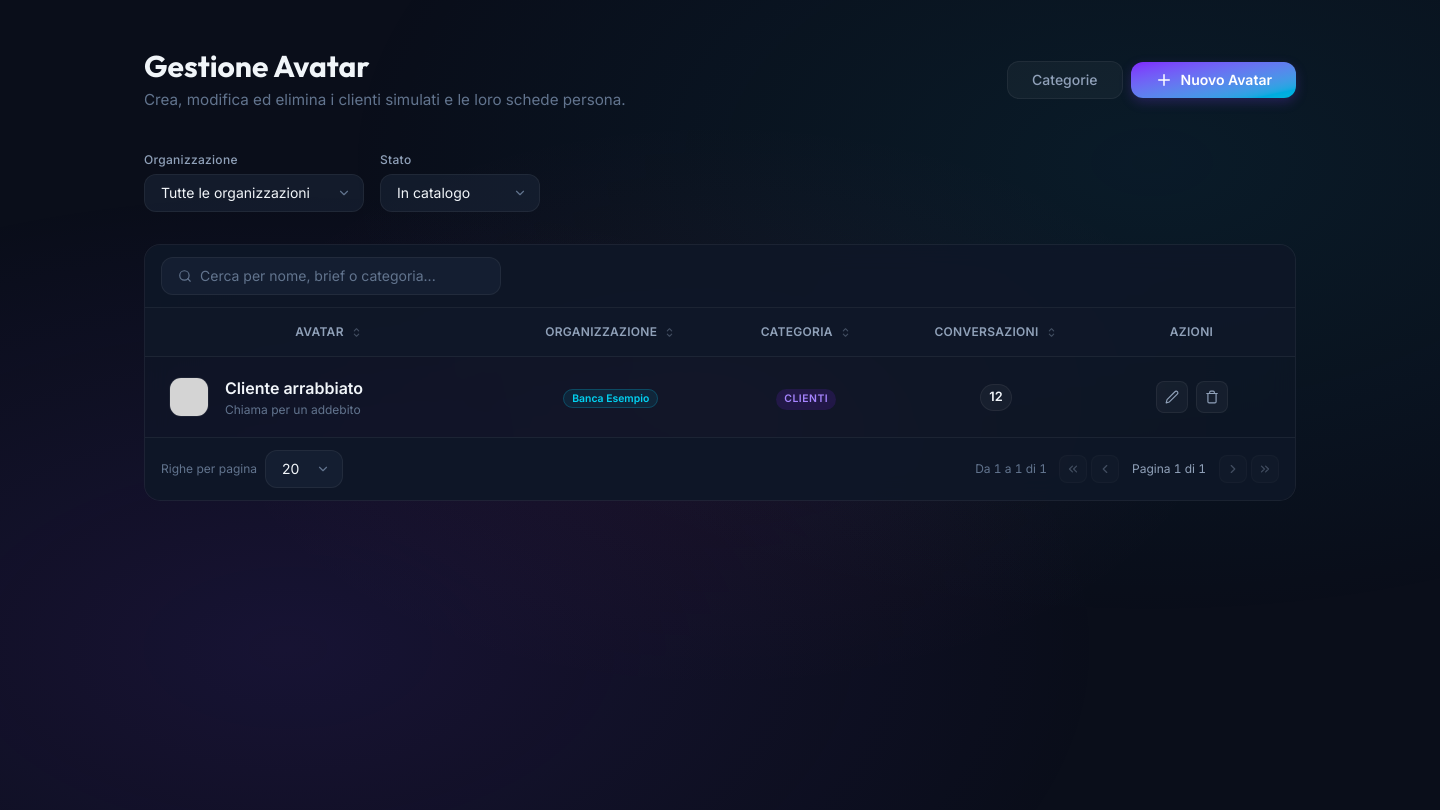
Test: catalogo › mostra gli archiviati quando si chiedono
Step 1. Click the dropdown named "Stato" → (460, 193), box [380, 174, 540, 212]
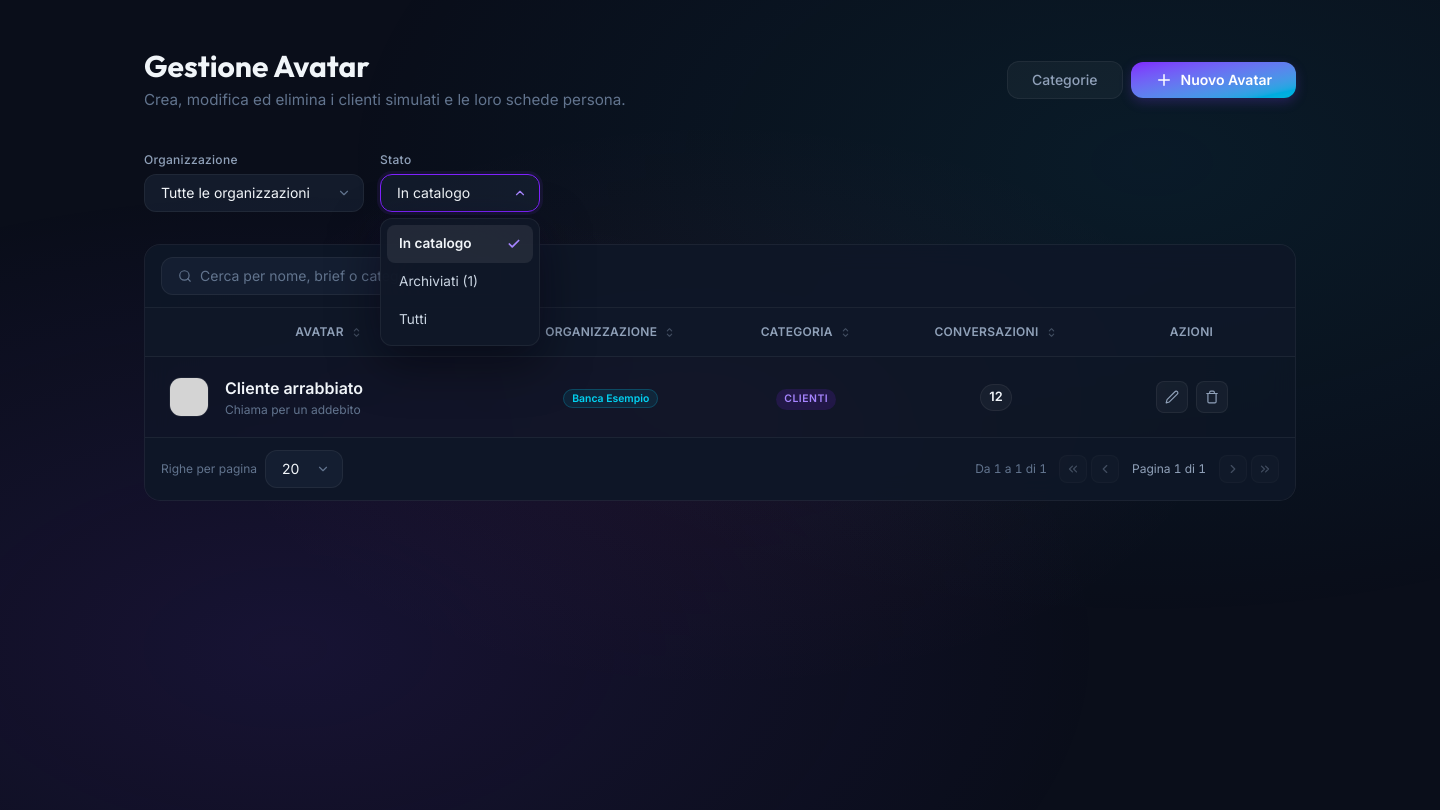
Step 2. Click the option "Archiviati (1)" → (438, 281), box [399, 273, 478, 289]
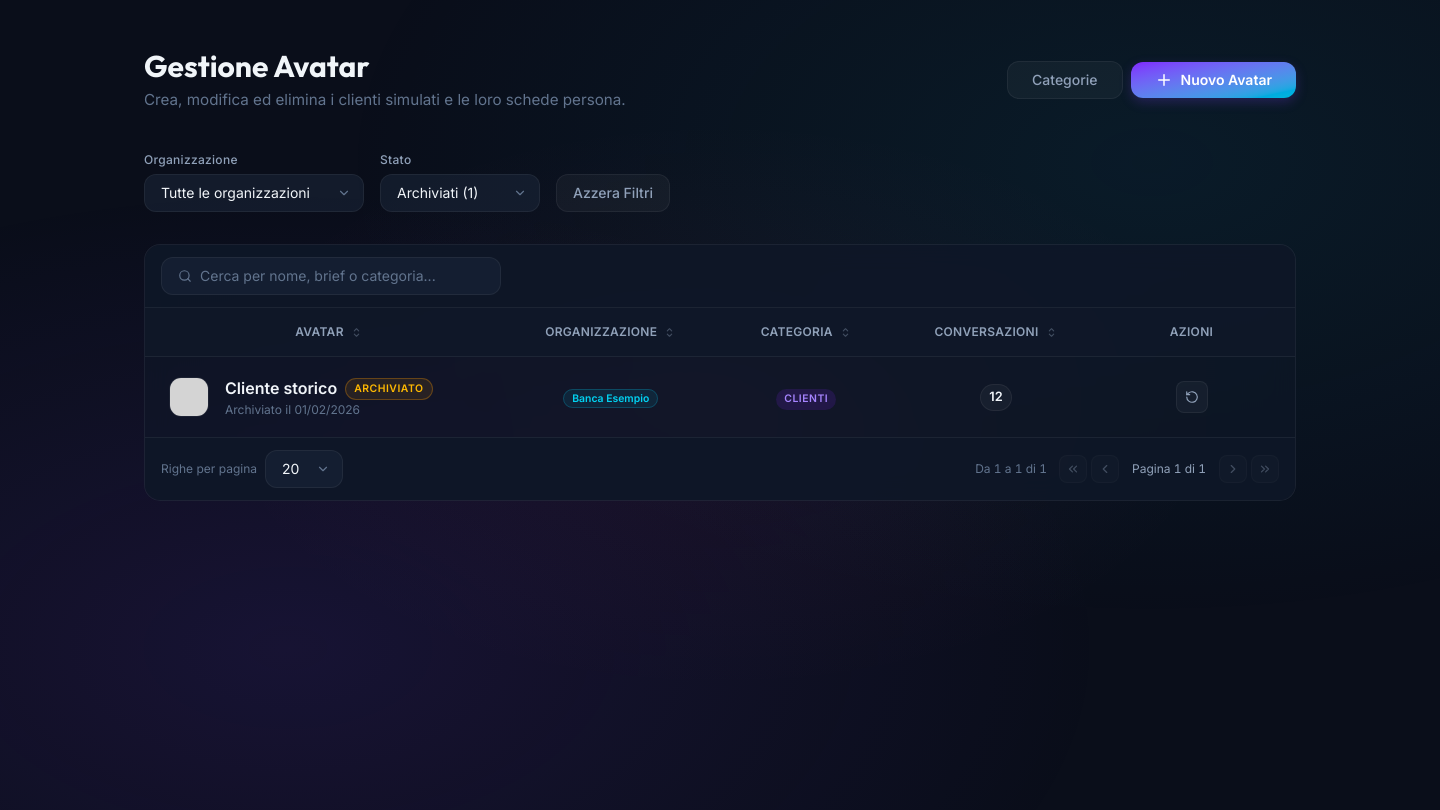
Expected: the text "Cliente storico" is shown, [225, 376, 337, 402]
Expected: the text "Cliente arrabbiato" is gone
